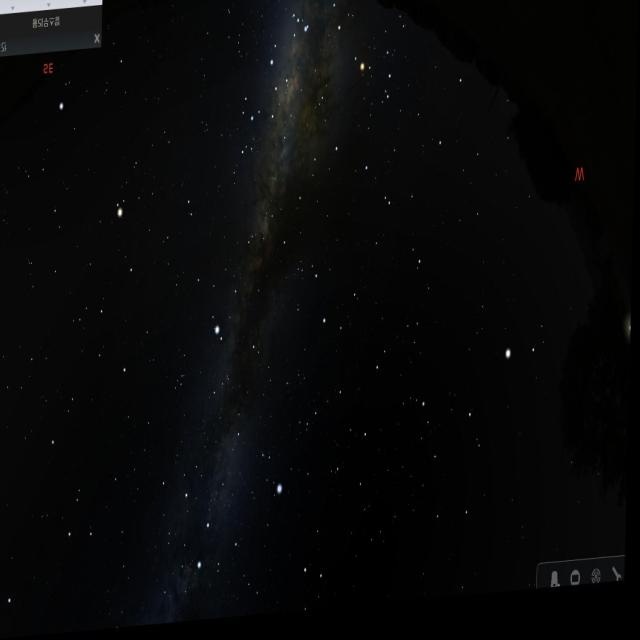aquila: (186, 215, 268, 395)
bootes: (414, 329, 538, 540)
cygnus: (179, 404, 250, 584)
lyra: (255, 448, 291, 508)
sagittarius: (222, 58, 289, 165)
scorpius: (289, 0, 405, 137)
